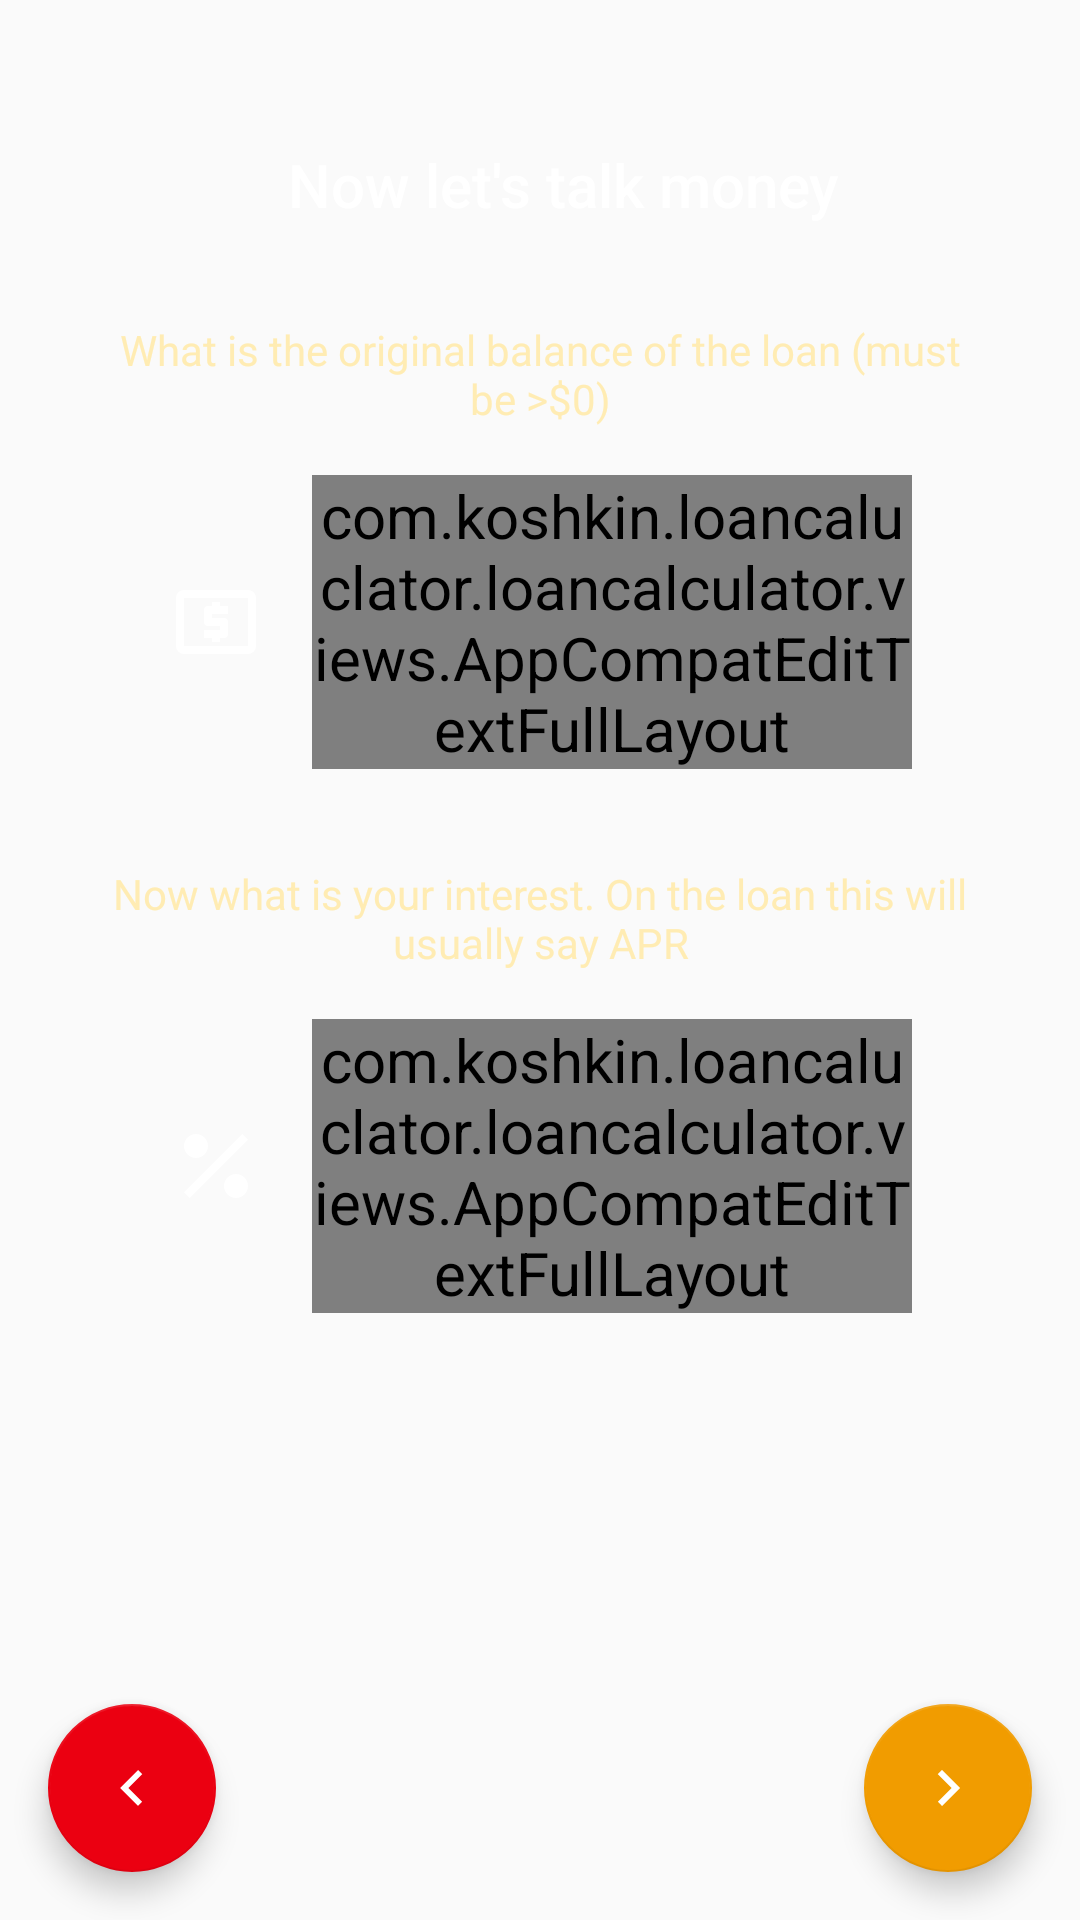

Icon click points for this 1080 x 1920 phone screenshot, format point (x, y):
chevron: point (948, 1788)
chevron backwards: point (132, 1788)
